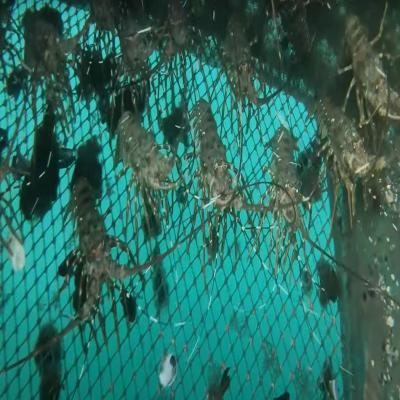lobster: (187, 103, 229, 254), (66, 176, 114, 304), (115, 110, 167, 228), (322, 108, 370, 216), (23, 17, 69, 111), (342, 32, 390, 122), (268, 128, 301, 256), (223, 14, 261, 101), (117, 19, 154, 100)
